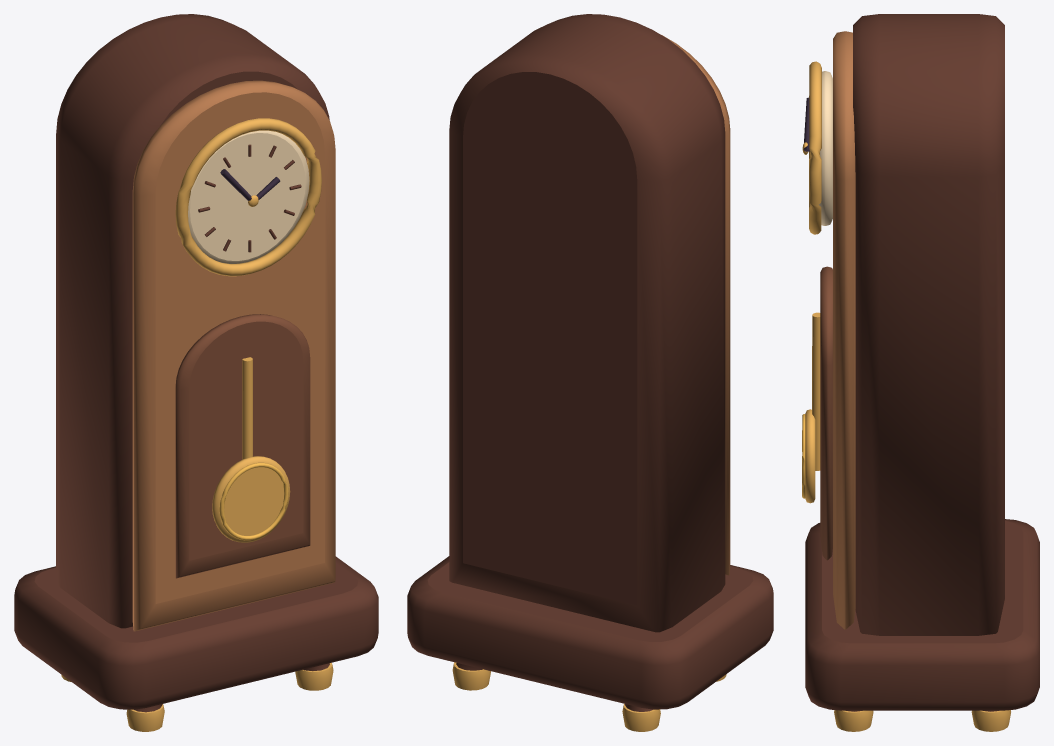
Rendered from atelier_clock.glb.
3 renders of one model, left to right at view 1: azimuth 30°, elevation 25°; view 2: azimuth 150°, elevation 25°; view 3: azimuth 270°, elevation 25°, orthographic. The views are drawn at different scales.
Parts seen in each view (by area): view 1: Reloj de péndulo; view 2: Reloj de péndulo; view 3: Reloj de péndulo.
Part boxes in pixels (x1,y1,x2,y2): Reloj de péndulo: [14, 14, 378, 731]; Reloj de péndulo: [407, 14, 773, 731]; Reloj de péndulo: [802, 14, 1039, 731].
Bounding box in the file's own units: 0.71 × 1.57 × 0.517.
